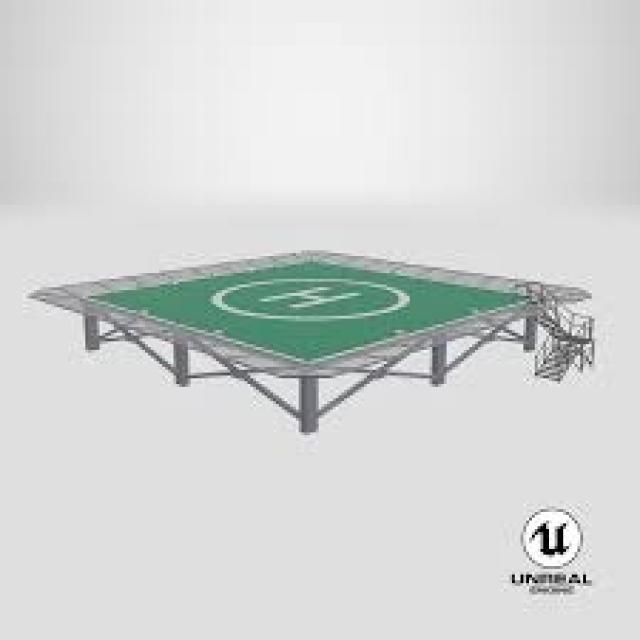helipad: (204, 268, 410, 318)
